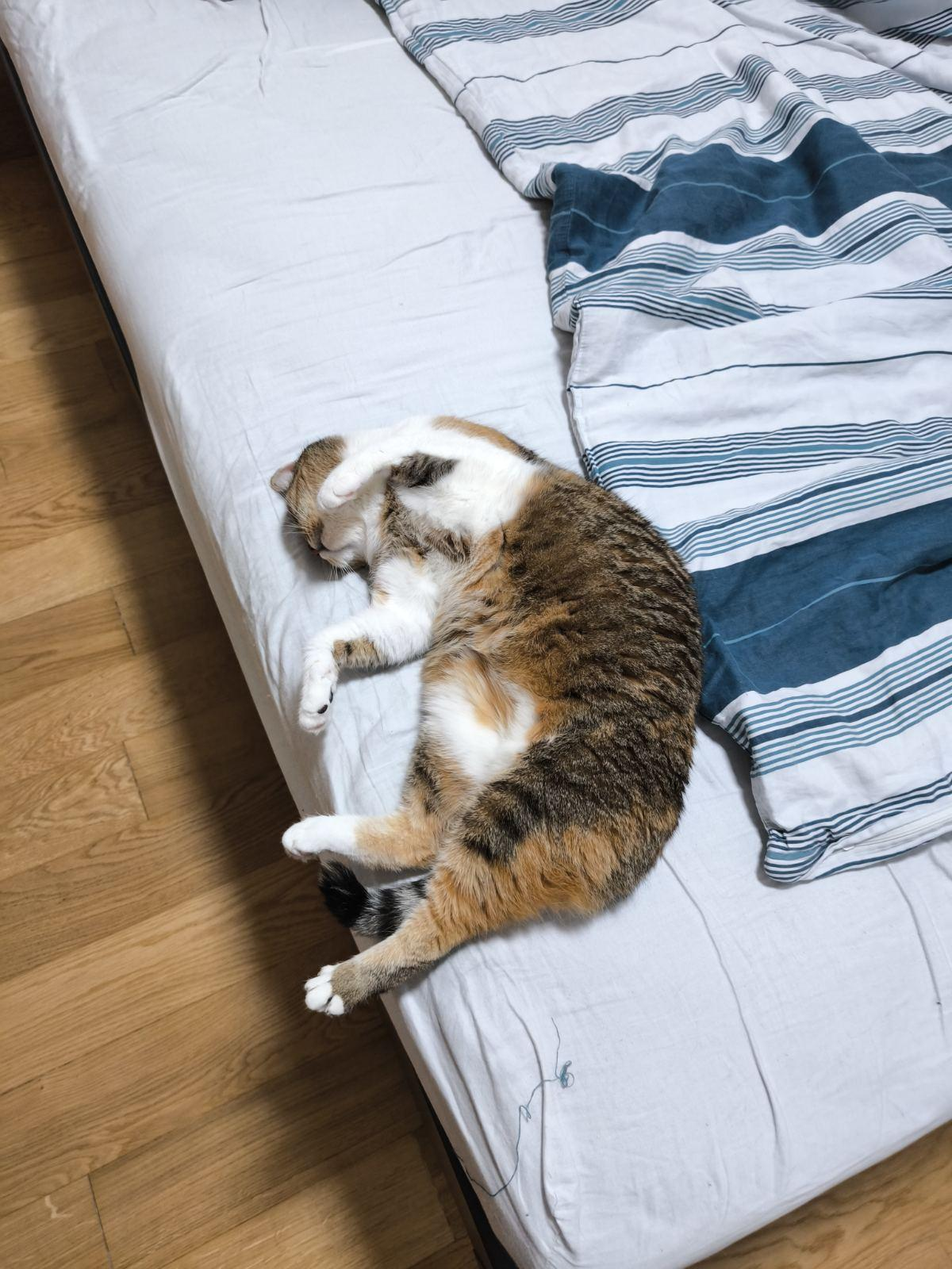macka: (264, 405, 712, 1023)
